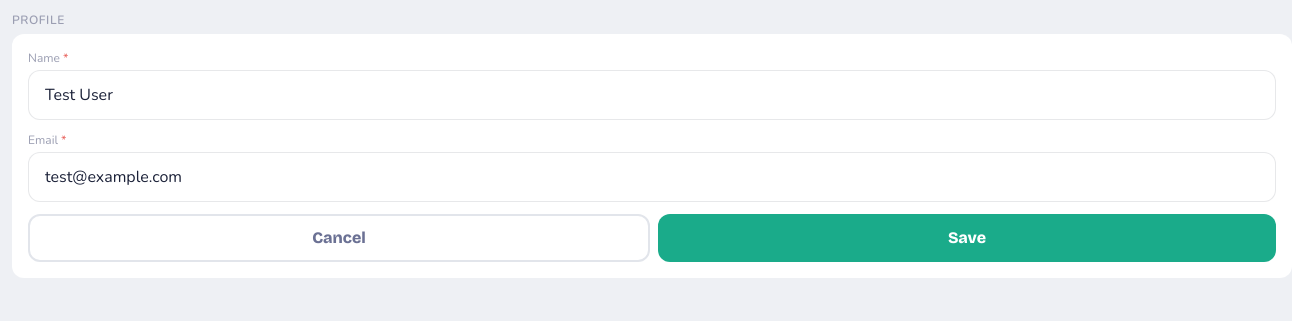
Test: ProfileSection › shows error on name field when blurred empty
The image size is (1292, 321).
Clear the field showing "Test User" at (652, 95), box [28,70,1276,120]
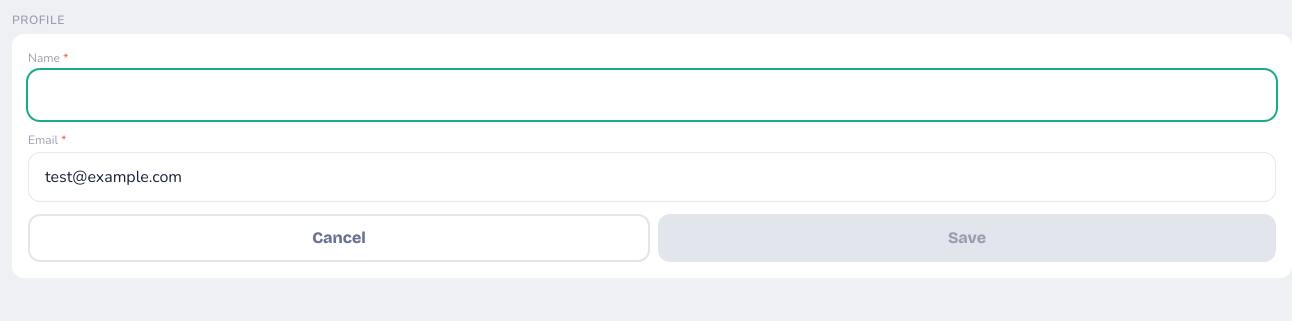
Press Tab
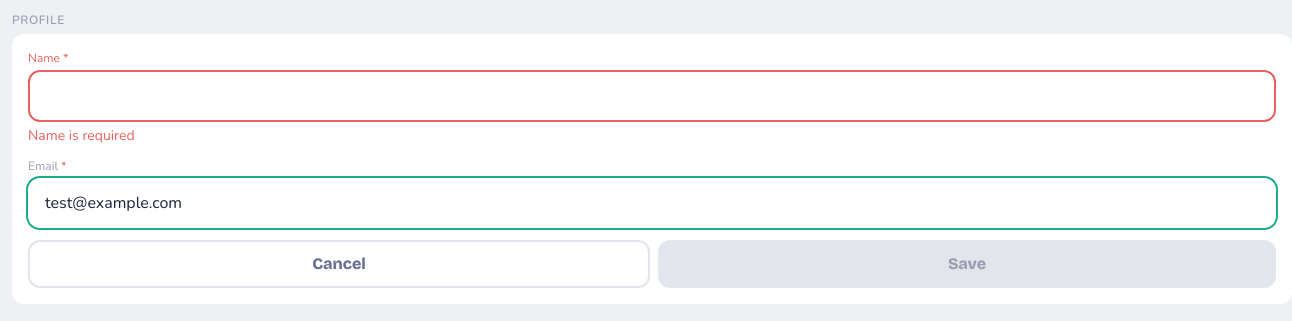
Now the text "Name is required" is shown, box [28,126,135,145]
